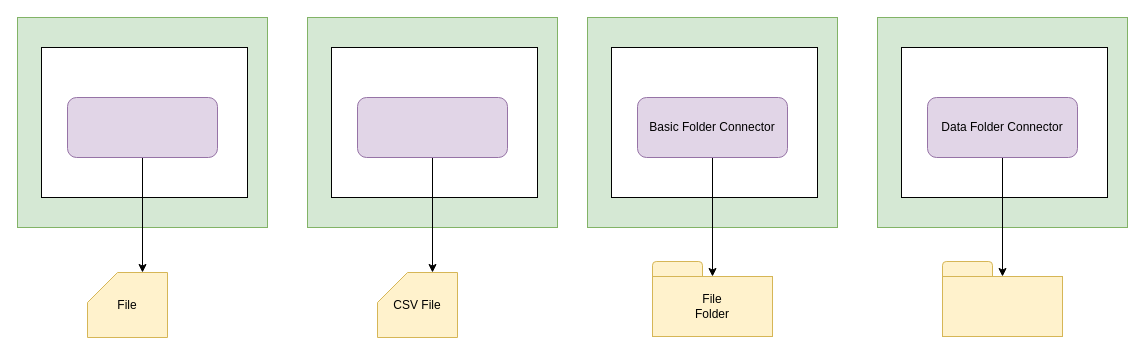
The diagram is 1145 pixels wide and 355 high, and some of its shapes have lost their labels. The centre of each missing label's shape, as x and y in pixels:
"Basic File Connector" goes at (x=142, y=127).
"CSV File Connector" goes at (x=432, y=127).
"Monitored Folder" goes at (x=1002, y=306).
